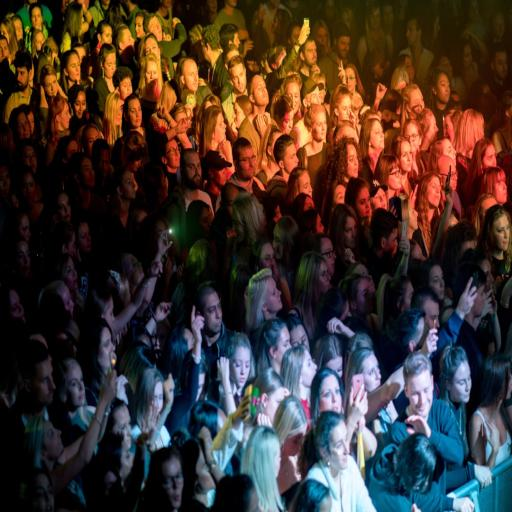face: (64, 54, 115, 84), (405, 370, 433, 419), (30, 357, 55, 406), (162, 457, 183, 509), (446, 361, 471, 403), (64, 364, 86, 410), (329, 421, 349, 470), (230, 346, 251, 388), (264, 387, 288, 422), (320, 375, 342, 413), (112, 406, 131, 450), (42, 421, 63, 460), (33, 473, 54, 511), (352, 279, 374, 315), (283, 424, 307, 456), (204, 293, 222, 335), (273, 326, 291, 367), (98, 328, 114, 374), (264, 279, 282, 317), (236, 146, 255, 181), (182, 153, 201, 188), (320, 237, 336, 278), (492, 215, 510, 251), (301, 351, 317, 388), (15, 240, 30, 278), (285, 82, 301, 115), (9, 290, 25, 323), (229, 64, 246, 95), (118, 171, 136, 200), (182, 60, 198, 92), (405, 124, 422, 154), (433, 74, 450, 104), (429, 266, 444, 300), (252, 75, 268, 106), (407, 89, 424, 118), (80, 158, 95, 189), (126, 99, 142, 128), (84, 126, 100, 155), (356, 187, 370, 220), (312, 111, 327, 141), (343, 217, 357, 249), (258, 243, 275, 269), (283, 145, 298, 174), (165, 139, 180, 168), (370, 121, 384, 152), (427, 177, 441, 208), (22, 173, 35, 206), (492, 52, 507, 80), (399, 281, 413, 311), (472, 285, 485, 317), (480, 259, 493, 291), (325, 356, 343, 379), (318, 261, 330, 295), (56, 102, 70, 130), (57, 193, 71, 221), (400, 141, 412, 173), (301, 42, 317, 66), (290, 325, 308, 346), (276, 111, 292, 134), (425, 114, 438, 142), (383, 229, 397, 255), (406, 20, 420, 46), (148, 17, 163, 41), (371, 188, 388, 209), (347, 145, 358, 177), (17, 215, 30, 242), (17, 112, 30, 139), (73, 92, 86, 119), (337, 95, 351, 120), (482, 144, 496, 169), (214, 114, 226, 143), (153, 382, 164, 413), (273, 226, 283, 260), (441, 139, 456, 161), (43, 75, 58, 97), (388, 167, 402, 190), (298, 173, 312, 196), (234, 103, 246, 129), (439, 56, 453, 78), (145, 37, 160, 57), (119, 77, 132, 100), (16, 67, 29, 90), (316, 27, 328, 51), (145, 61, 157, 85), (196, 373, 206, 401), (444, 116, 455, 141), (333, 185, 346, 205), (99, 25, 112, 45), (347, 67, 356, 93), (31, 8, 42, 29), (135, 16, 145, 39), (115, 97, 123, 125), (115, 98, 123, 125), (383, 5, 393, 26)
